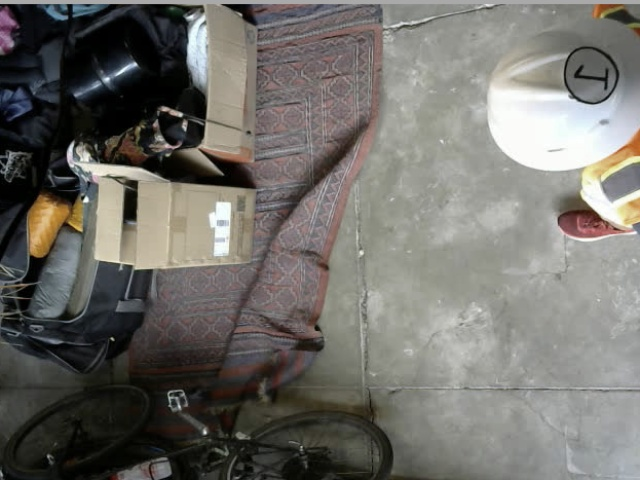one: (564, 46, 617, 103)
